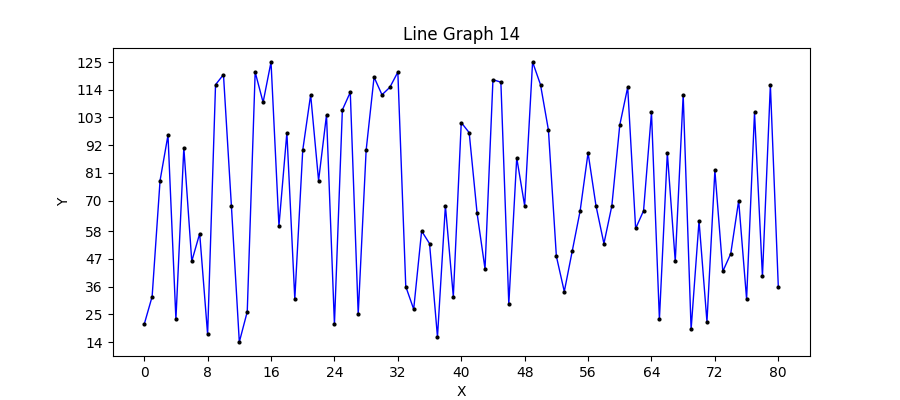cvs: (113, 48, 810, 356)
